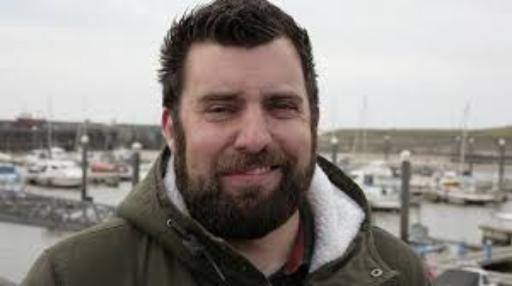left_eye: (267, 104, 302, 114)
left_lip_corner: (272, 164, 290, 175)
right_eye: (202, 105, 241, 117)
right_lip_corner: (216, 171, 234, 181)
